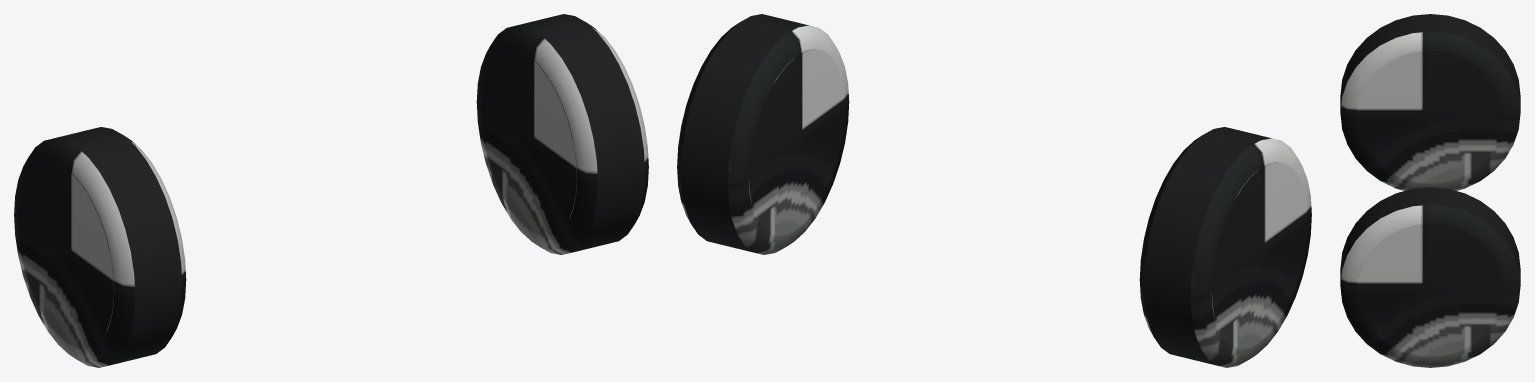
The model's file is hatch_83_popup_wheels_r.obj.
3 views of the same model, side by side, from view 1: azimuth 30°, elevation 25°; view 2: azimuth 150°, elevation 25°; view 3: azimuth 270°, elevation 25° (orthographic). The views are drawn at different scales.
Parts seen in each view (by area): view 1: hatch_83_popup_wheels_r; view 2: hatch_83_popup_wheels_r; view 3: hatch_83_popup_wheels_r.
Boxes of the visible parts, box(x1,y1,x2,y2) form: hatch_83_popup_wheels_r: box(14, 14, 648, 367); hatch_83_popup_wheels_r: box(677, 14, 1311, 367); hatch_83_popup_wheels_r: box(1340, 14, 1520, 367).
Bounding box in the file's own units: 1.58 × 0.6071 × 0.6071.
Materials: 1 (1 with a texture image).
